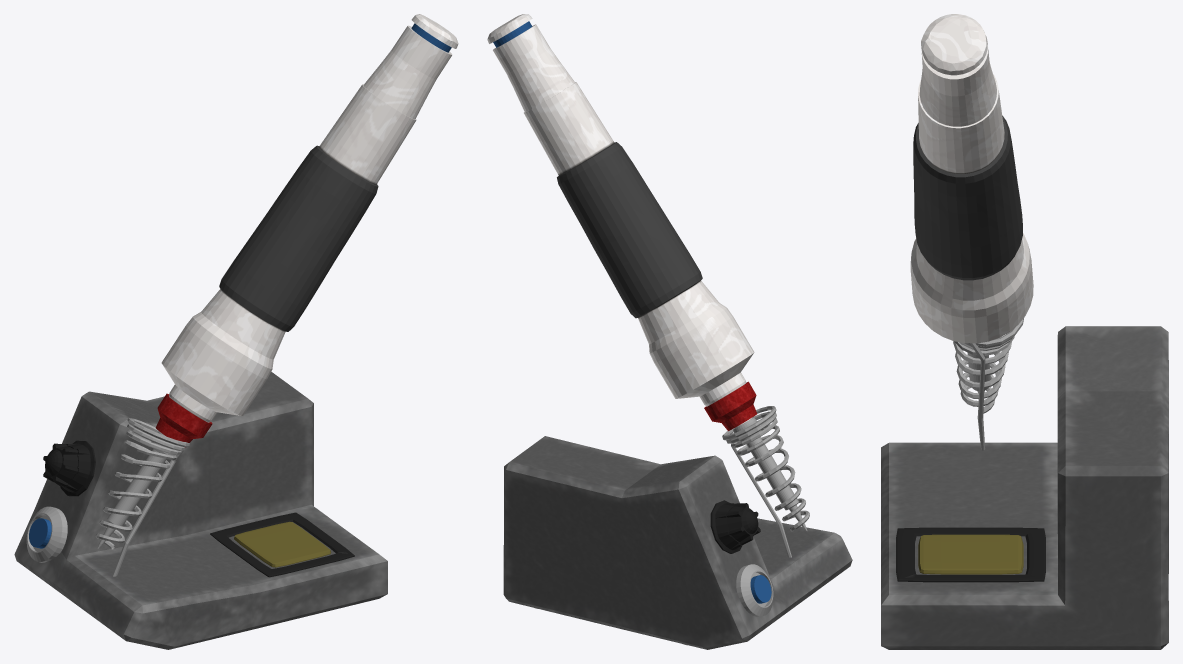
The model's file is Solda.fbx.
The picture shows the model from 3 angles, left to right: view 1: azimuth 30°, elevation 25°; view 2: azimuth 150°, elevation 25°; view 3: azimuth 270°, elevation 25°; orthographic projection. The views are drawn at different scales.
Parts seen in each view (by area): view 1: BaseSolda, Solda; view 2: BaseSolda, Solda; view 3: BaseSolda, Solda.
Boxes of the visible parts, x1=… form: BaseSolda: x1=14, y1=371, x2=387, y2=649; Solda: x1=97, y1=14, x2=458, y2=549; BaseSolda: x1=503, y1=406, x2=852, y2=649; Solda: x1=487, y1=14, x2=807, y2=530; BaseSolda: x1=881, y1=318, x2=1168, y2=649; Solda: x1=910, y1=14, x2=1033, y2=393.
Size of the model in its own units: 19.27 by 28.18 by 10.78.
Materials: 2 (2 with a texture image).
